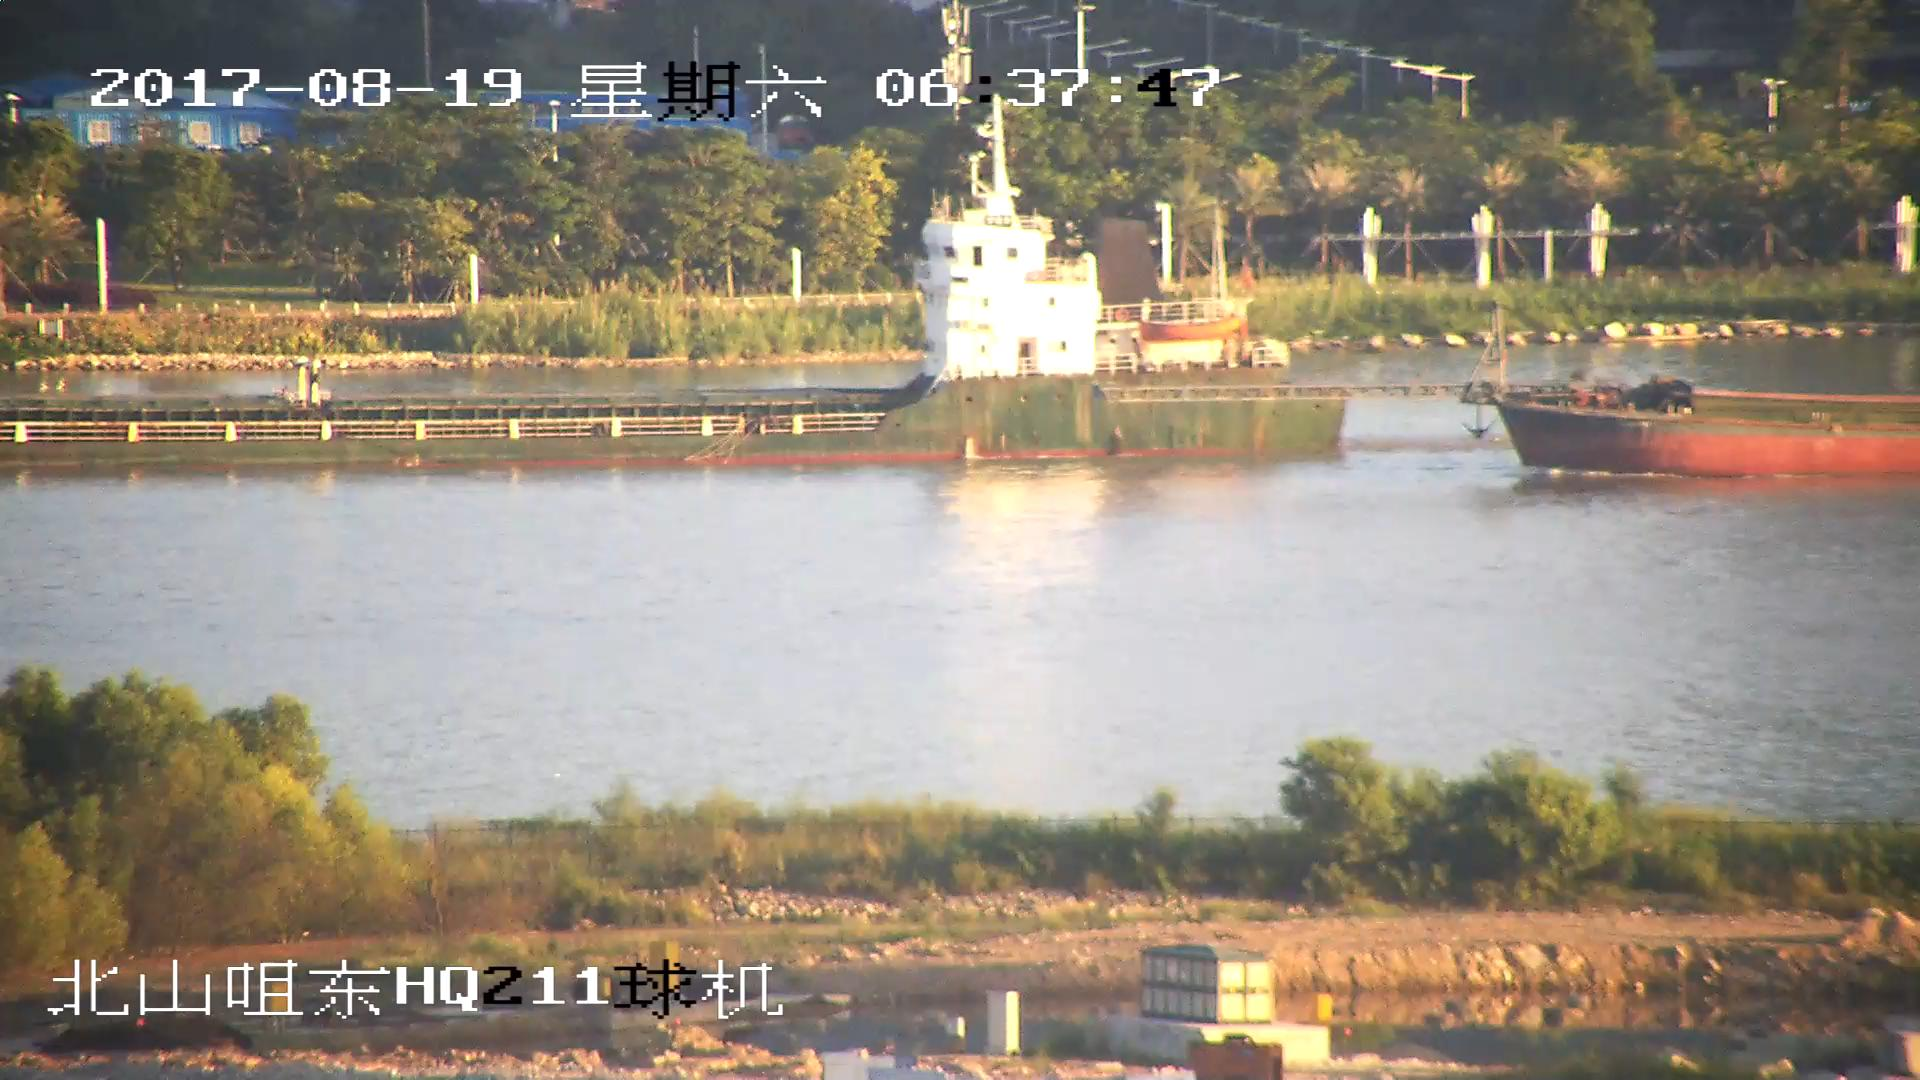bulk cargo carrier: (1360, 322, 1920, 476)
general cargo ship: (1, 150, 1341, 462)
